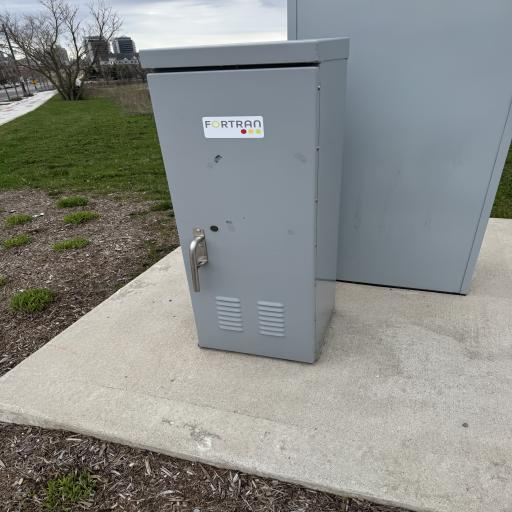Electrical Box: (137, 37, 350, 361), (285, 2, 512, 295)
